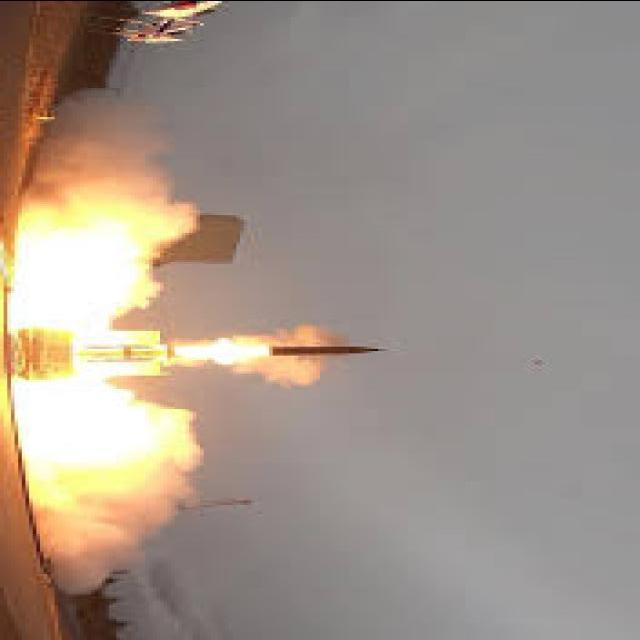missile: (266, 339, 388, 361)
